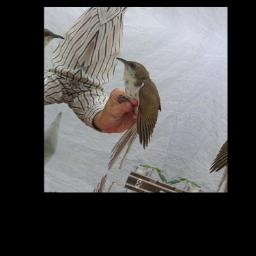Cuckoo: (71, 54, 179, 177)
